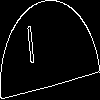I: (25, 25, 37, 73)
